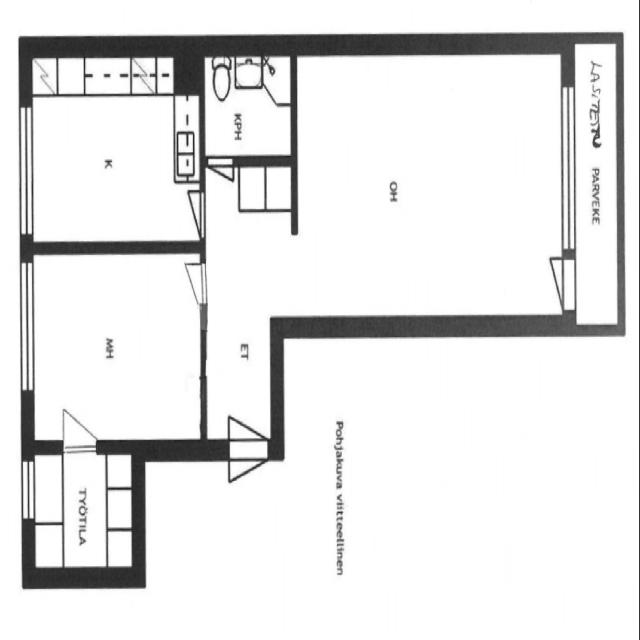door: (222, 410, 268, 488), (542, 248, 578, 314), (58, 404, 100, 456), (183, 256, 209, 306), (186, 184, 208, 237), (206, 153, 236, 184)
window: (554, 78, 582, 261), (15, 255, 40, 398), (14, 97, 37, 245), (18, 454, 38, 526)
zone: (286, 45, 572, 323), (27, 249, 206, 444), (23, 52, 200, 248), (204, 163, 288, 455), (28, 450, 136, 578), (201, 49, 293, 161)
